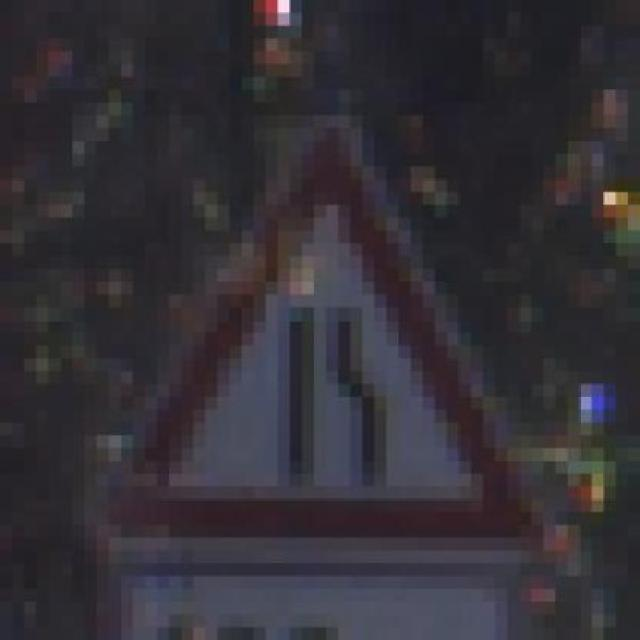-Road narrows on right: (60, 102, 543, 576)
